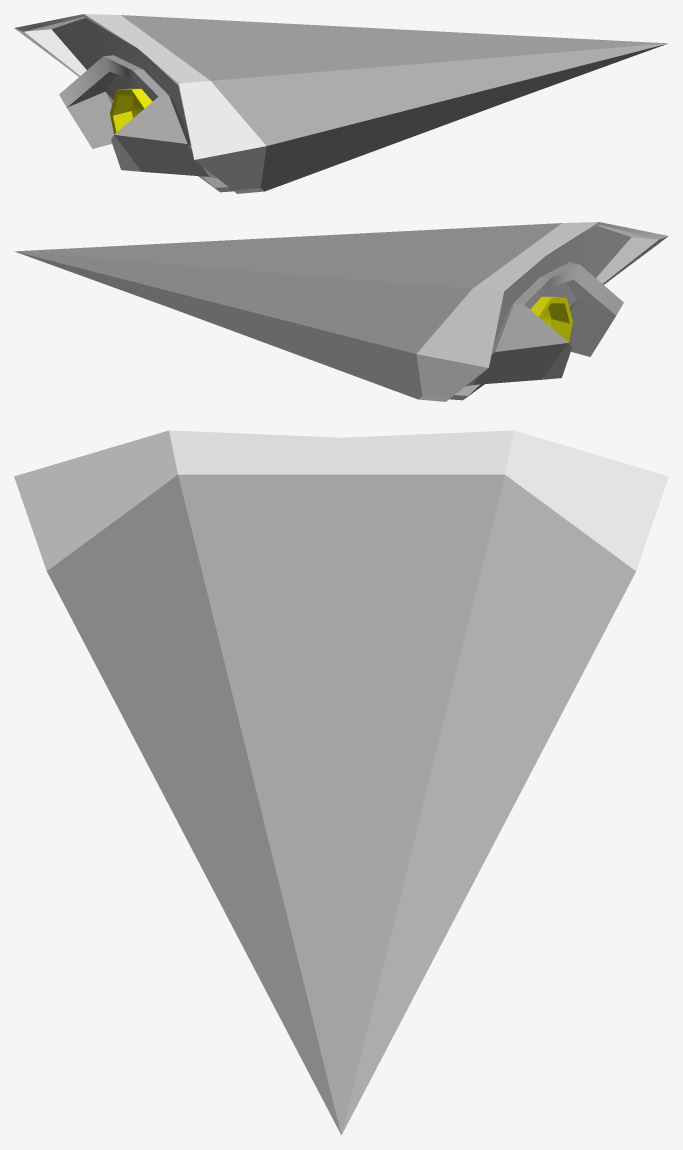
Rendered from StarShip.fbx.
The picture shows the model from 3 angles, top to bottom: view 1: azimuth 30°, elevation 25°; view 2: azimuth 150°, elevation 25°; view 3: azimuth 270°, elevation 25°; orthographic projection. The views are drawn at different scales.
Visible parts, largest first — view 1: StarShip; view 2: StarShip; view 3: StarShip.
Boxes of the visible parts, left/top/right/bottom form: StarShip: left=14, top=14, right=668, bottom=193; StarShip: left=14, top=222, right=668, bottom=401; StarShip: left=14, top=430, right=668, bottom=1135.
Bounding box in the file's own units: 5.01 × 1.09 × 2.69.
